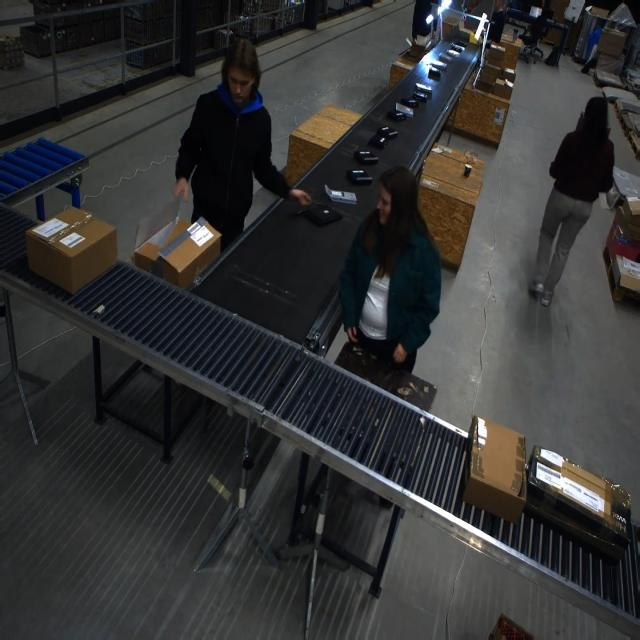box: (529, 432, 638, 574), (24, 206, 117, 294), (133, 215, 222, 289), (463, 421, 528, 522)
product: (298, 195, 340, 228), (323, 184, 352, 205), (345, 169, 371, 185), (353, 150, 377, 165), (369, 135, 389, 150), (396, 103, 414, 117), (378, 126, 397, 138), (414, 82, 432, 94), (387, 110, 406, 121), (400, 97, 418, 108), (427, 66, 441, 78), (413, 90, 428, 101), (449, 43, 465, 53)
